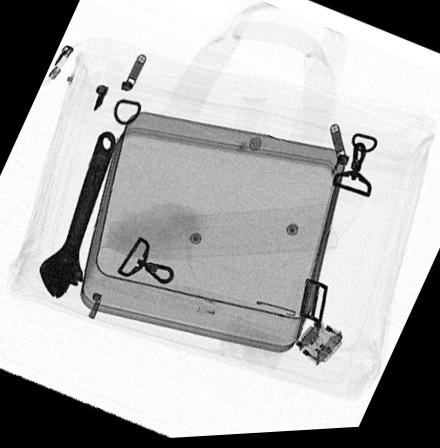Wrench: (37, 128, 119, 300)
